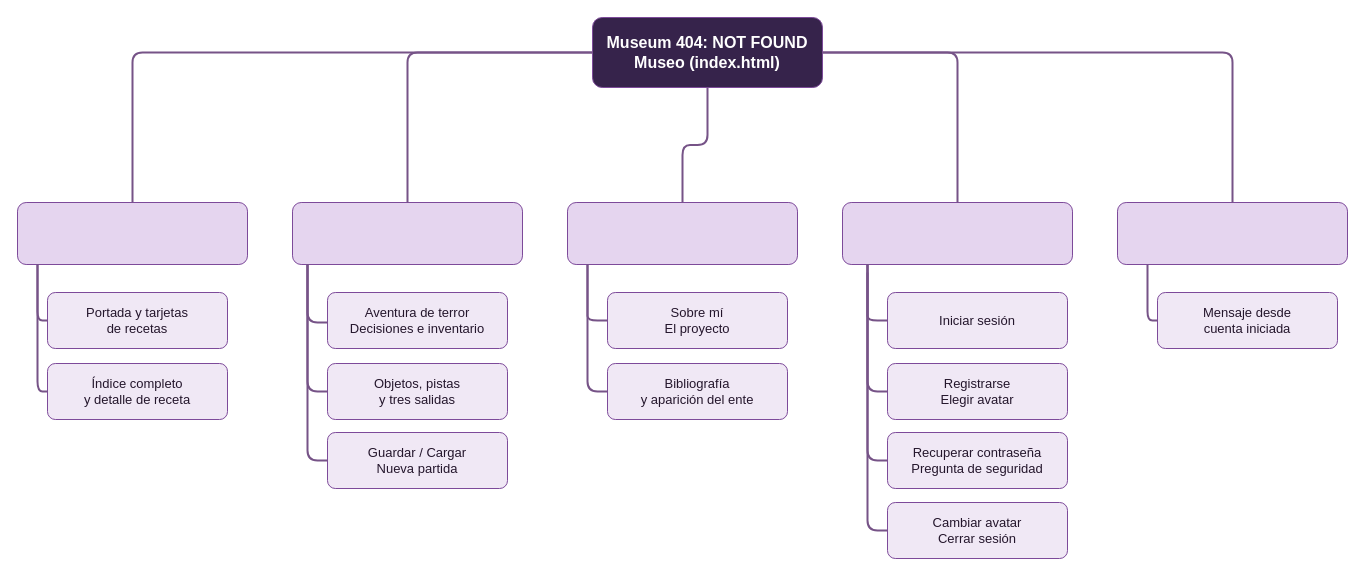
The diagram is 1365 pixels wide and 576 high, and some of its shapes have lost their labels. Here are the shapes that lost their labels. From the top down, the centre of each, then its label:
At pixel 132 233: "Recetario (recetario.html)".
At pixel 407 233: "No entres · Juego (juego.html)".
At pixel 682 233: "Sobre nosotros Expediente interactivo".
At pixel 957 233: "Perfil / Usuarios (perfil.html)".
At pixel 1232 233: "Contactar con Jack (contacto.html)".
